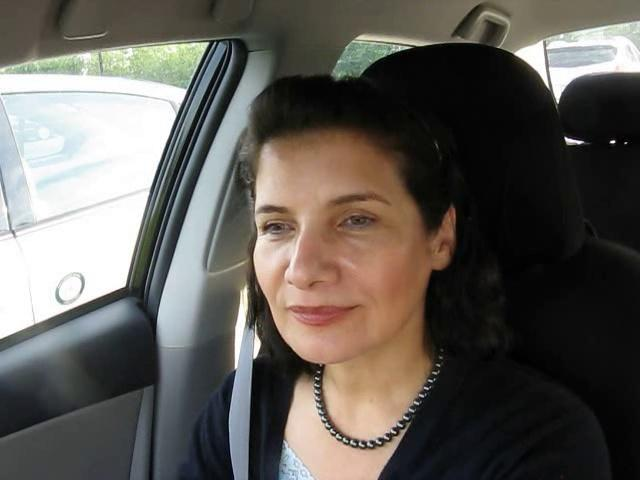no_yawn: (270, 288, 373, 335)
open_eyeL: (250, 210, 301, 246)
open_eyeR: (322, 203, 395, 238)
